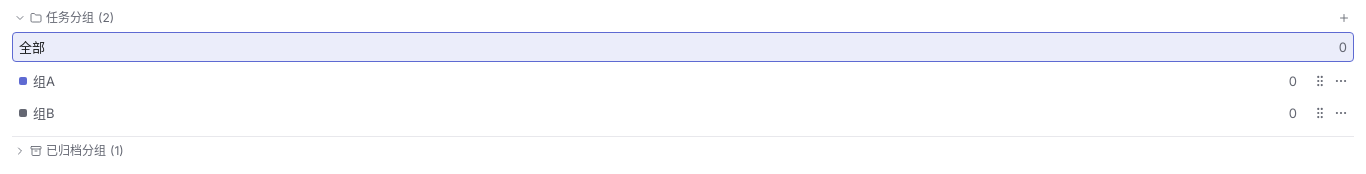
Test: GroupManageList › 风琴化：任务分组分区（默认展开、与已归档分区非互斥） › 点风琴头折叠：隐藏「全部」行/组列表/新建输入；[+] 按钮仍可见
Expected: the list item with aria-label "分组 组A" is shown, [12, 66, 1354, 96]
Click the button labelled "任务分组 (2)". click: x=64, y=18
box: [12, 8, 116, 28]
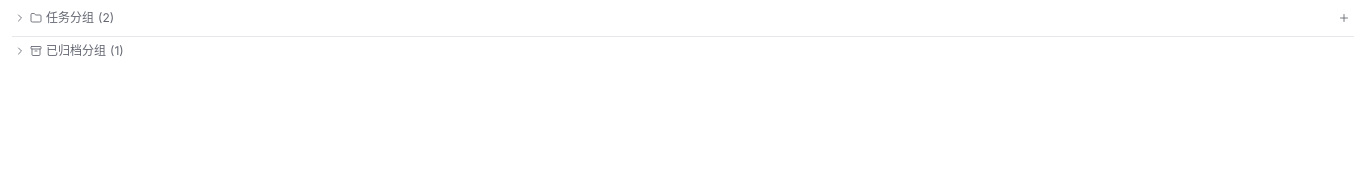
Expected: the button named "新建组" is shown, [1334, 12, 1354, 24]
Expected: the button labelled "任务分组 (2)" is collapsed, [12, 8, 116, 28]
Expected: the button labelled "筛选全部分组" is gone
